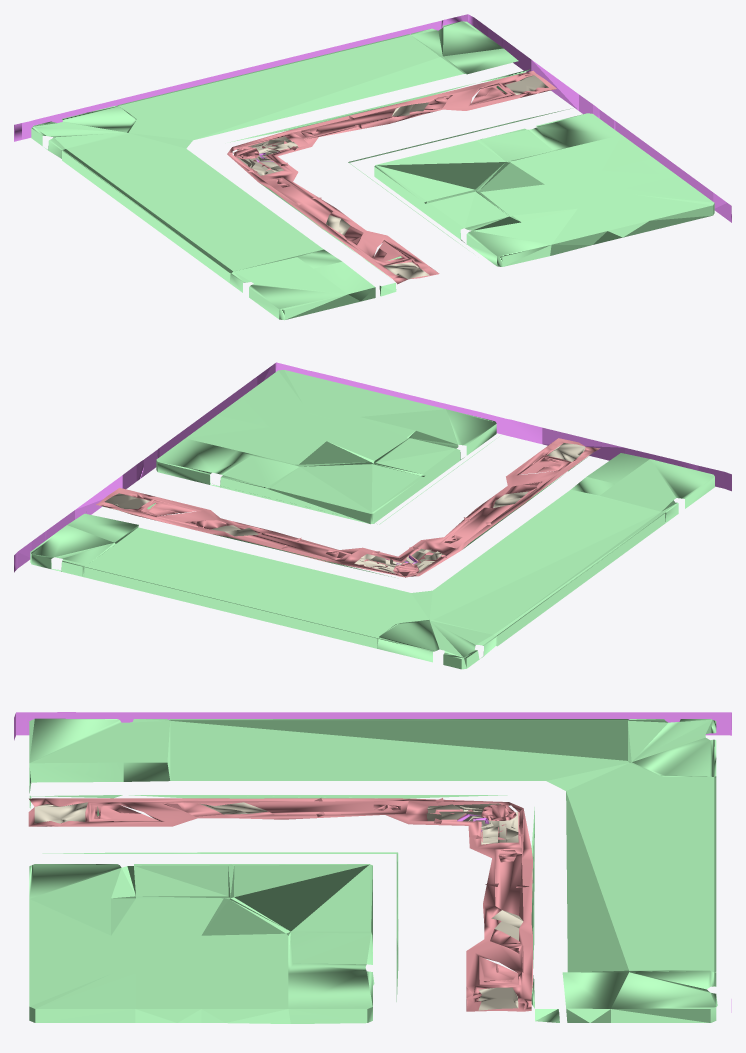
The model's file is floor_corner_16x16_a_lod3.glb.
3 views of the same model, one above another, from view 1: azimuth 30°, elevation 25°; view 2: azimuth 150°, elevation 25°; view 3: azimuth 270°, elevation 25° (orthographic). The views are drawn at different scales.
Bounding box in the file's own units: 16 × 0.5909 × 16.
